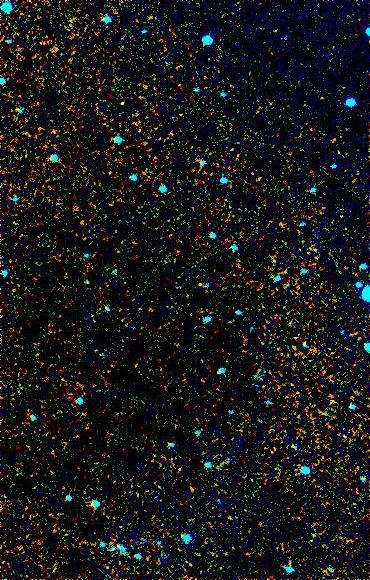star: (311, 95, 341, 125)
